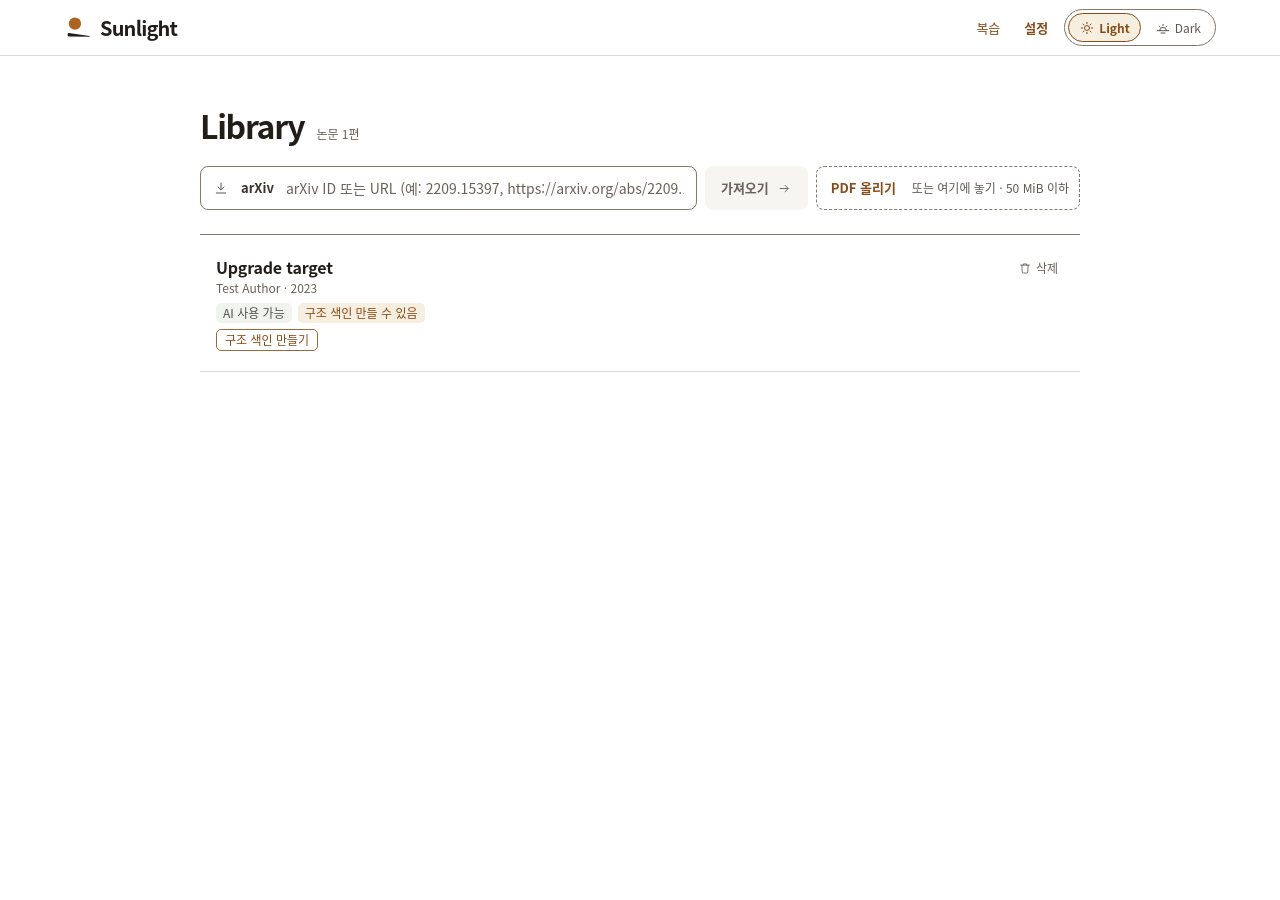
upgrade flow › a lost stream whose job finished on the server (papers.get: job done, v2) shows done, not a lost-stream error (C-R2-01)
Click the button with test id "rd-upgrade-button" at [267, 340], box [216,329,318,351]
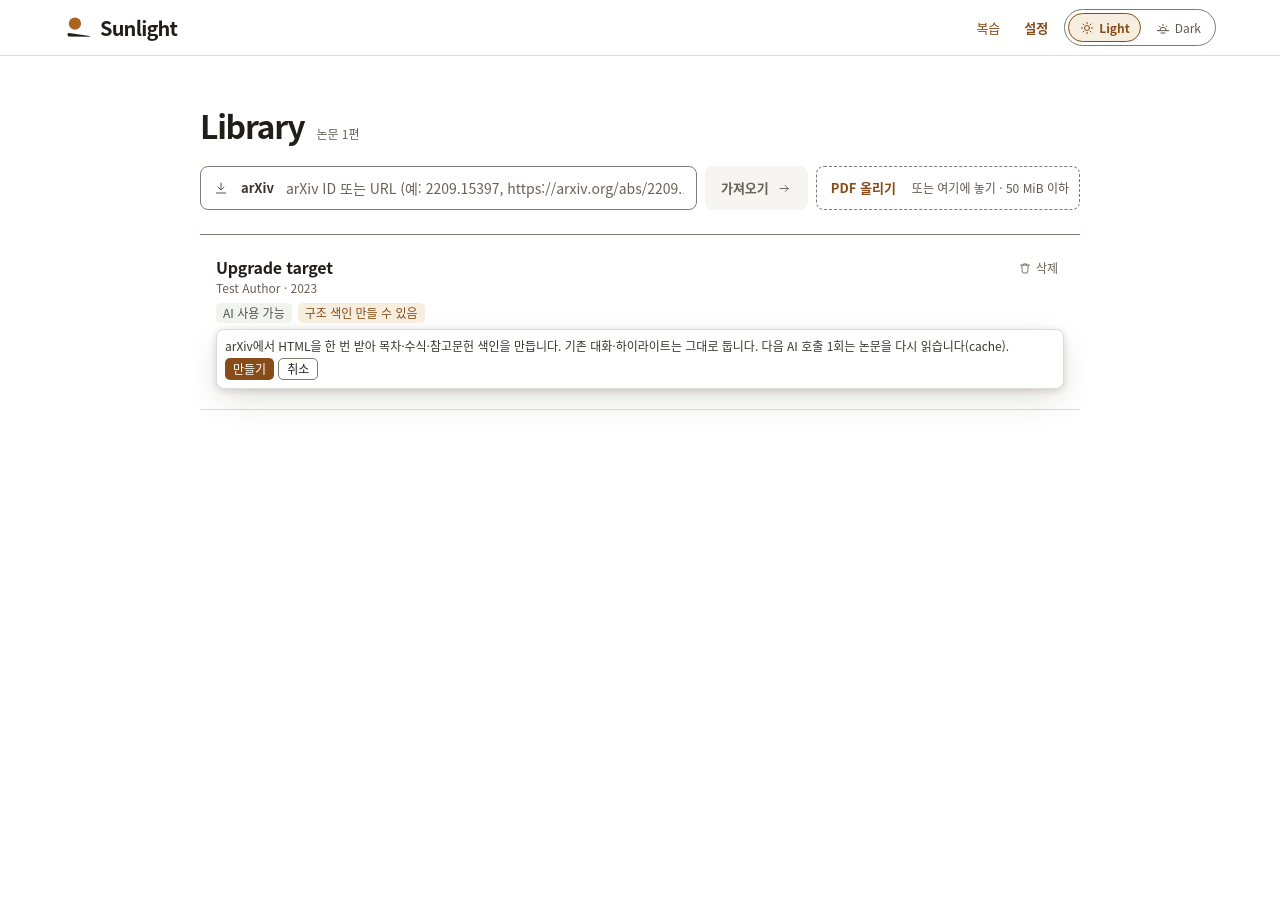
Click the button with test id "rd-upgrade-confirm-yes" at [250, 369], box [225,358,274,380]
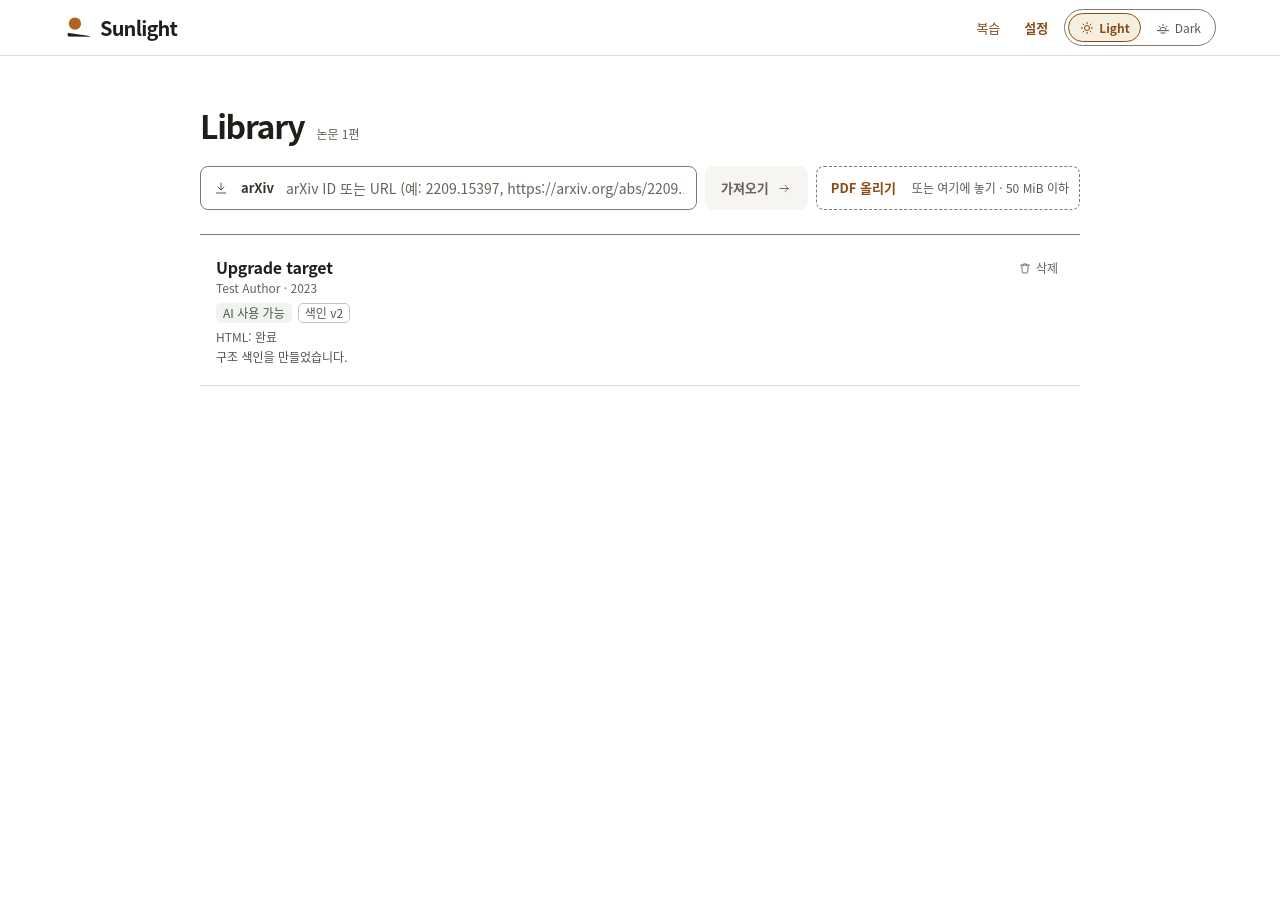
Expected: the text "구조 색인을 만들었습니다." is shown, [216,348,348,365]
Expected: the text with test id "rd-structure-badge" reads "색인 v2", [305,304,343,321]
